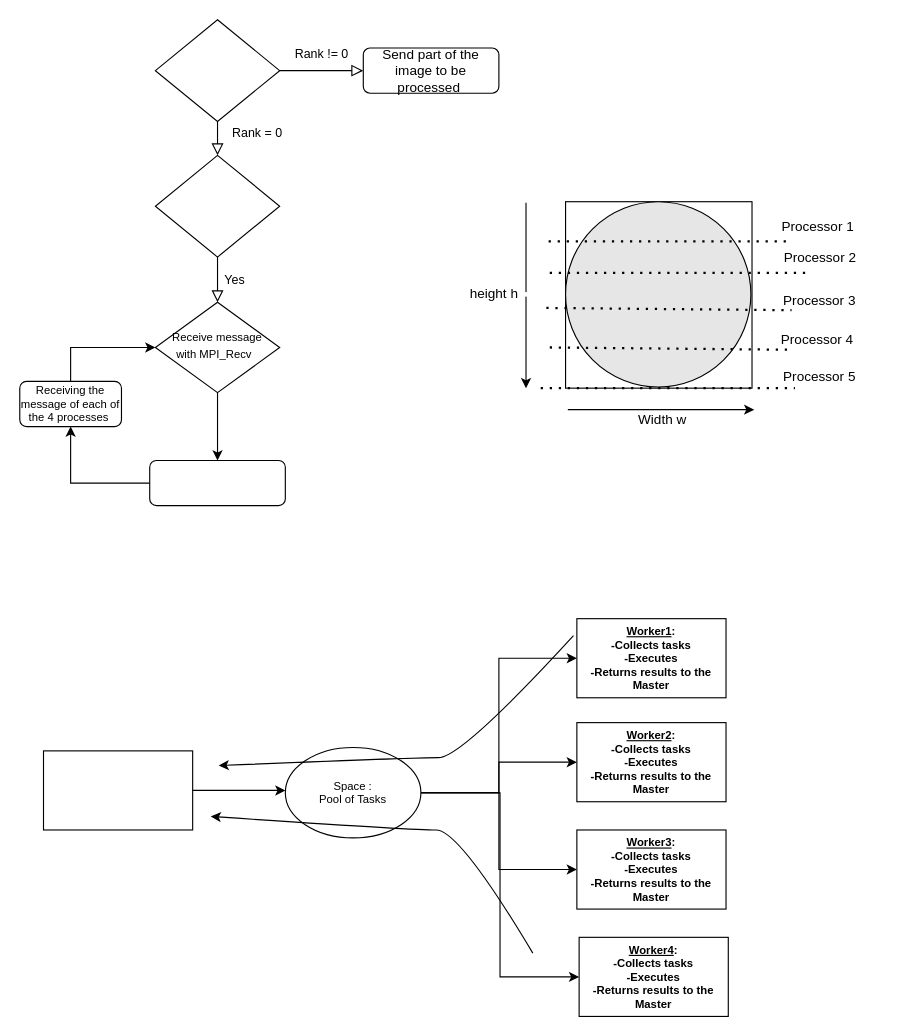
Some shapes in this 897 by 1036 pixel diagram are drawn without their labels. The centre of each missing label's shape, as x and y in pixels:
"Check incoming message MPI_Prob" goes at point 217,205.
"Master: -Creates tasks -Load into space Awaits collection of result" goes at point 117,790.
"receiving part of the image from the process i" goes at point 217,482.
"the Rank value" goes at point 217,70.
